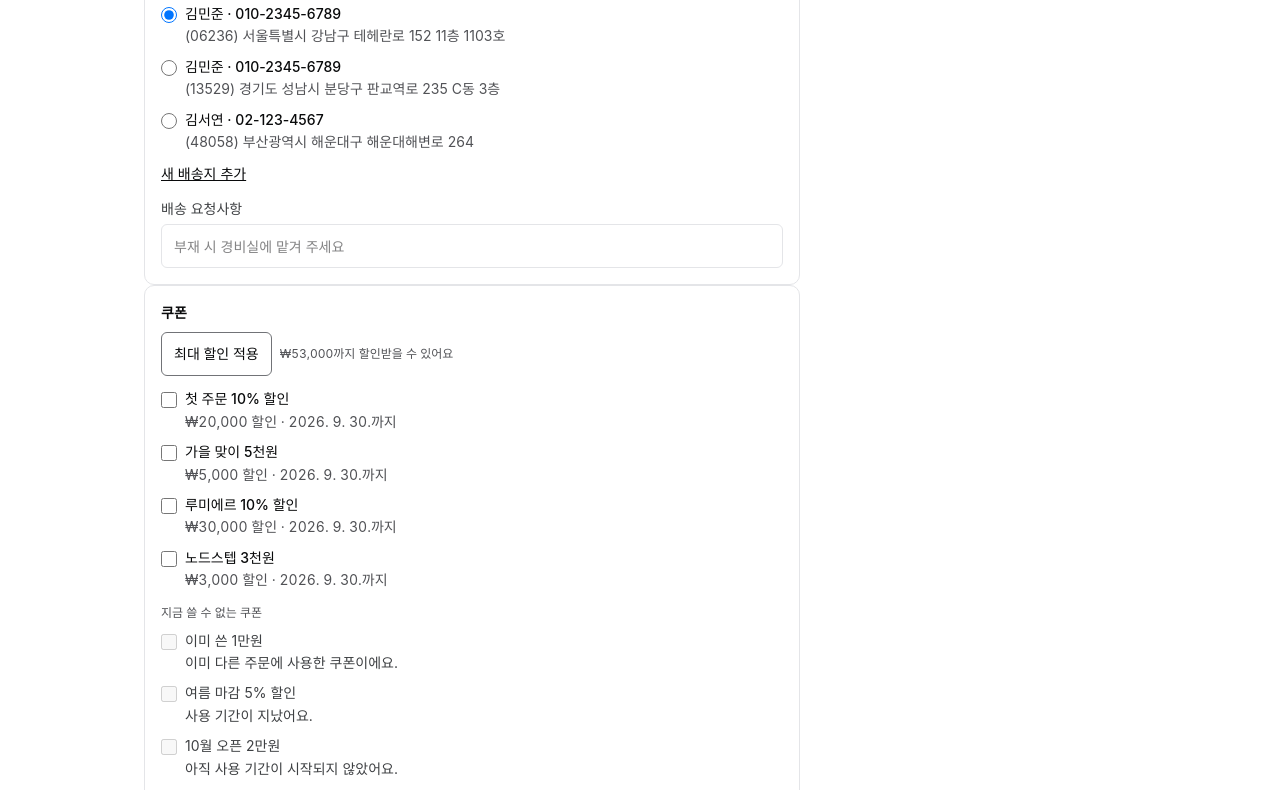
Scenario: 중복 규칙이 화면에서 보인다 › keeps a platform coupon and a seller coupon together
(page scrolled)
Step 1. Click the checkbox labelled "첫 주문 10% 할인 ₩20,000 할인 · 2026. 9. 30.까지" → point(169, 400), box [161,392,177,408]
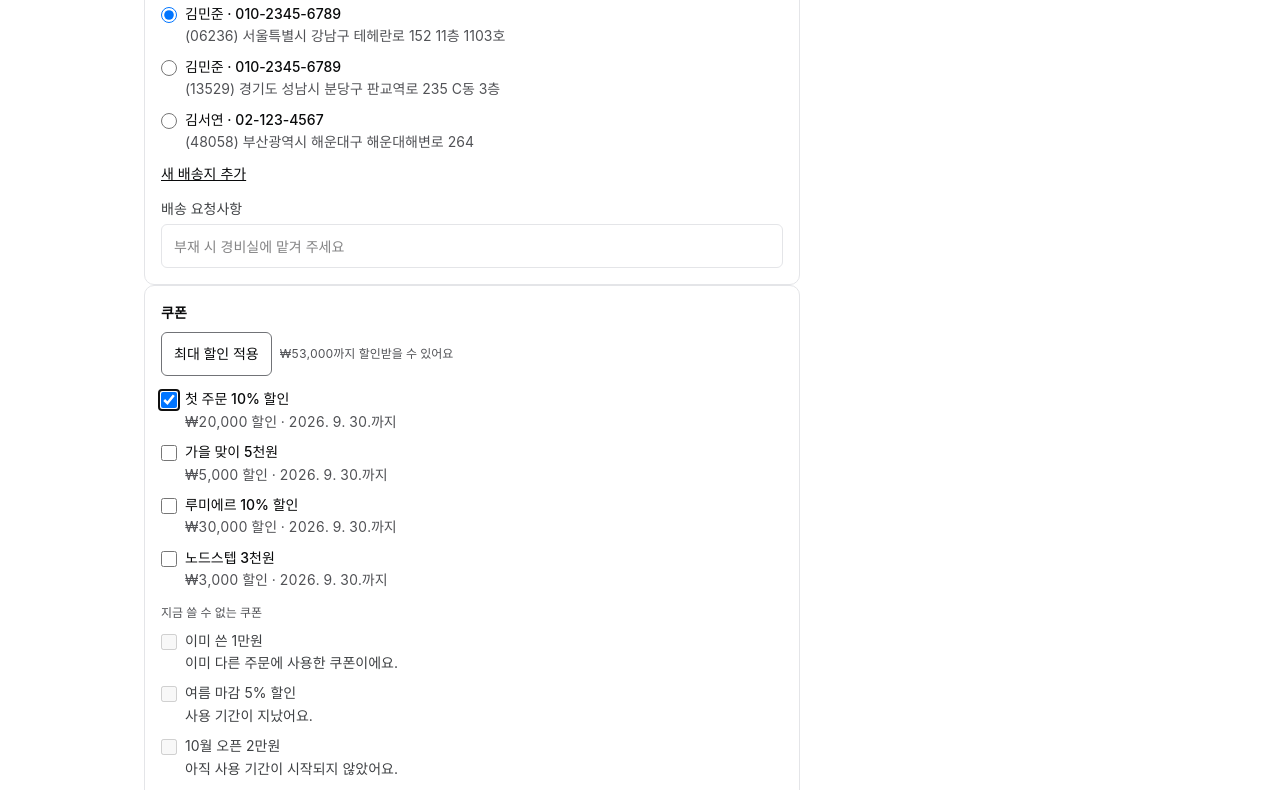
Step 2. Click the checkbox labelled "노드스텝 3천원 ₩3,000 할인 · 2026. 9. 30.까지" → point(169, 559), box [161,551,177,567]
(page scrolled)
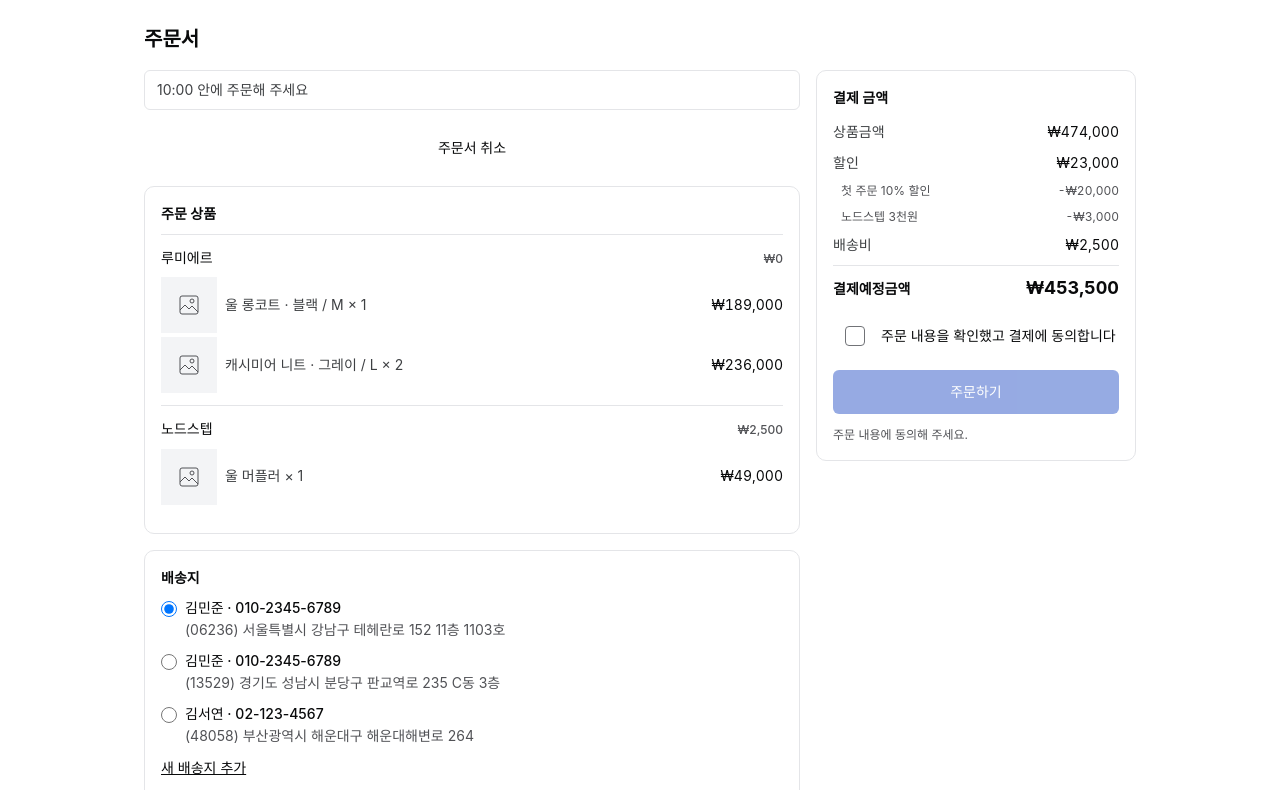
Now the text "₩453,500" is shown, box [1026,274,1119,302]
